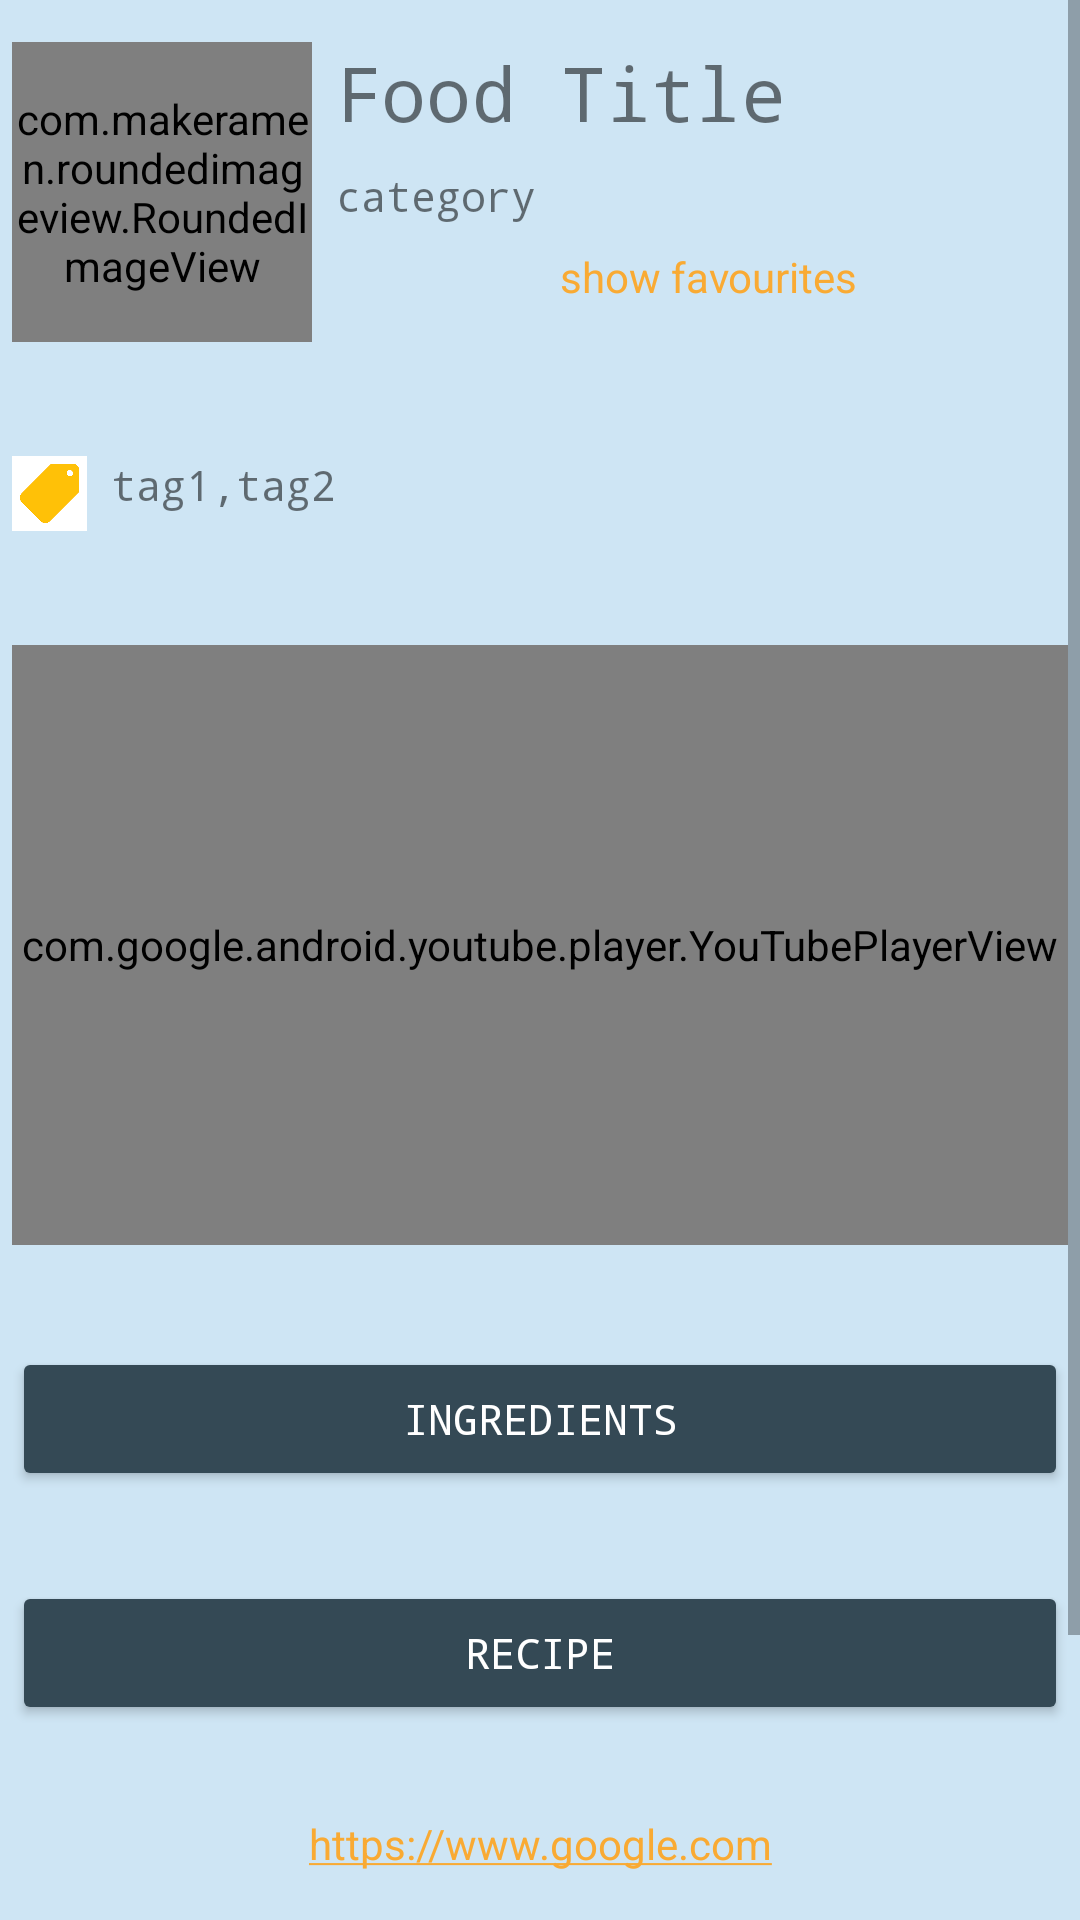

Point at icon controls on the screen. Image size 1080x1920, points as (x=x, y=y).
tag: (x=49, y=493)
